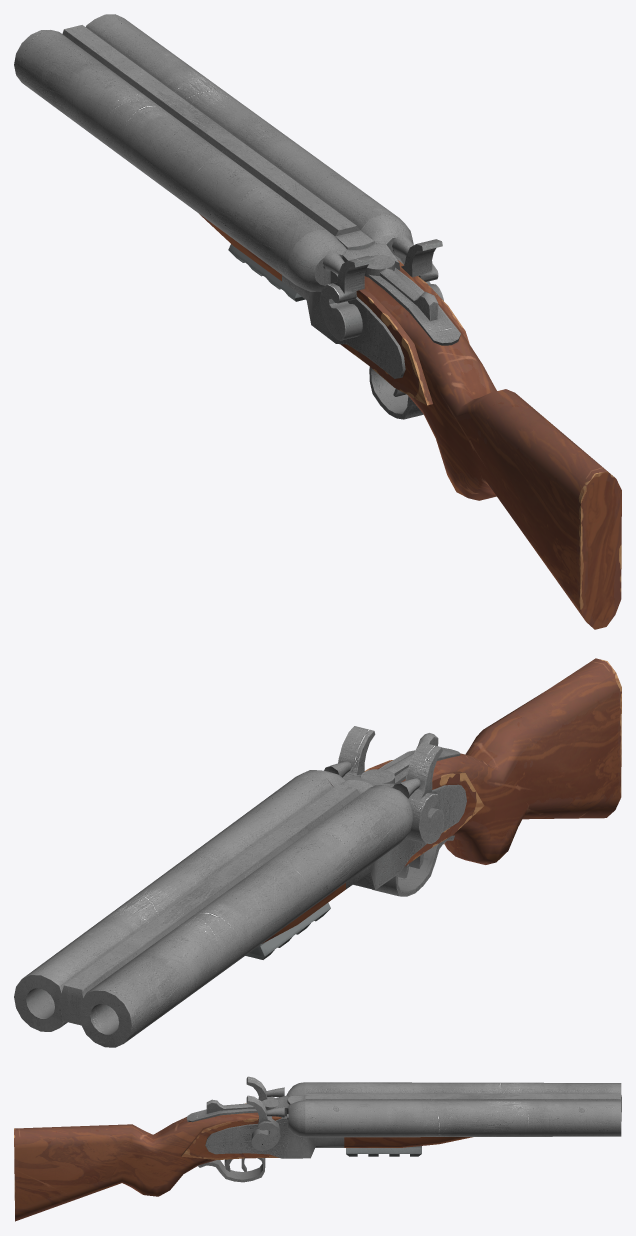
File: IG_Gun_TOZ66.fbx
3 renders of one model, top to bottom at view 1: azimuth 30°, elevation 25°; view 2: azimuth 150°, elevation 25°; view 3: azimuth 270°, elevation 25°, orthographic. The views are drawn at different scales.
Parts seen in each view (by area): view 1: Pfb_WPN_TOZ66_L_1; view 2: Pfb_WPN_TOZ66_L_1, ShowIf_Grip; view 3: Pfb_WPN_TOZ66_L_1, ShowIf_Grip.
Part boxes in pixels (x1,y1,x2,y2): Pfb_WPN_TOZ66_L_1: [14, 14, 621, 629]; Pfb_WPN_TOZ66_L_1: [14, 658, 621, 1047]; ShowIf_Grip: [245, 902, 330, 959]; Pfb_WPN_TOZ66_L_1: [14, 1076, 621, 1221]; ShowIf_Grip: [346, 1146, 421, 1156].
Bounding box in the file's own units: 0.1754 × 0.3179 × 1.34.
